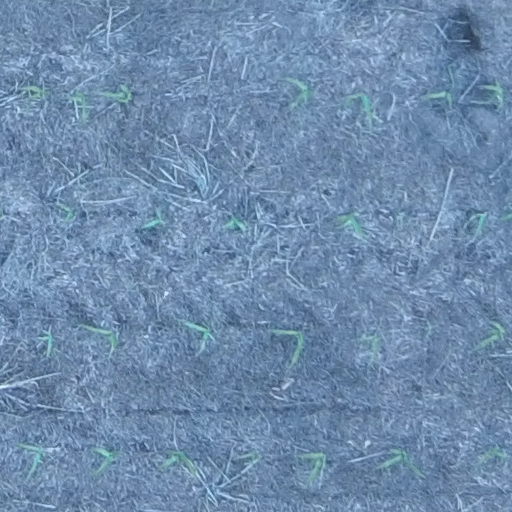planta: (376, 447, 423, 475), (271, 328, 304, 365), (182, 319, 213, 357), (17, 441, 46, 475), (161, 449, 198, 475), (344, 92, 375, 123), (476, 320, 507, 350), (91, 447, 121, 477), (85, 323, 120, 348), (285, 77, 314, 107), (301, 451, 327, 483), (336, 212, 365, 237), (477, 82, 505, 107), (68, 90, 90, 121), (479, 445, 507, 464), (36, 327, 54, 356), (468, 213, 486, 240), (361, 334, 380, 357), (17, 85, 48, 99), (425, 90, 453, 104), (113, 85, 133, 104), (224, 216, 248, 231), (146, 209, 164, 228), (58, 203, 75, 222), (236, 451, 260, 462), (101, 91, 125, 98)
